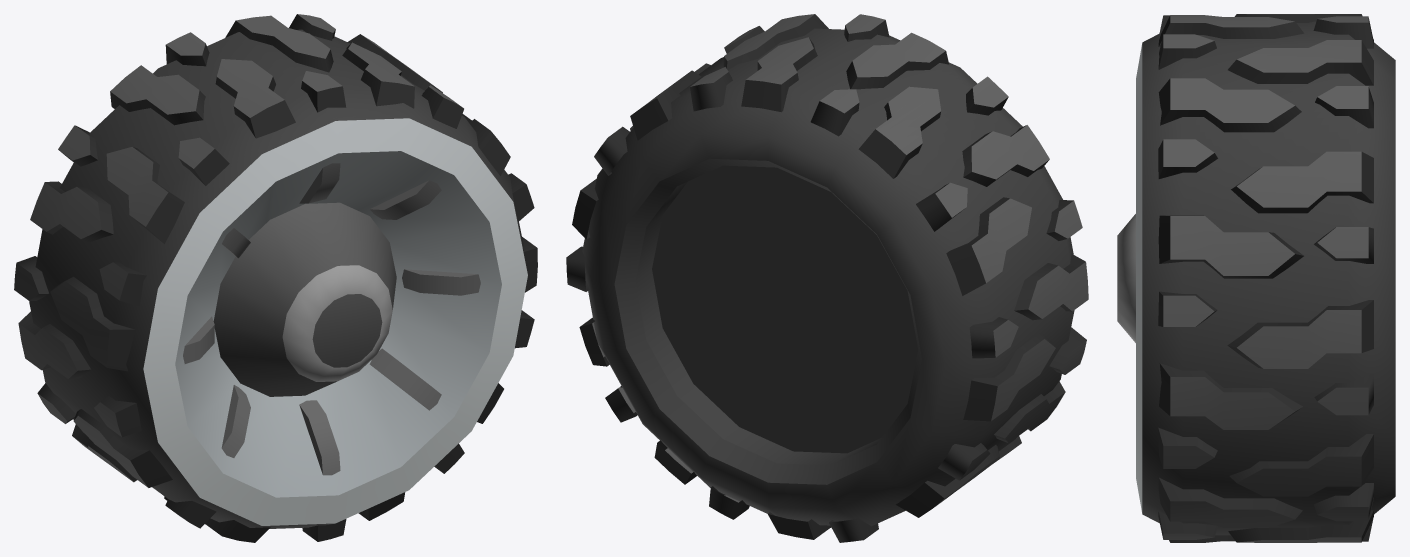
File: wheel_06.fbx
3 renders of one model, left to right at view 1: azimuth 30°, elevation 25°; view 2: azimuth 150°, elevation 25°; view 3: azimuth 270°, elevation 25°, orthographic. The views are drawn at different scales.
Parts seen in each view (by area): view 1: wheel_06; view 2: wheel_06; view 3: wheel_06.
Boxes of the visible parts, left/top/right/bottom form: wheel_06: left=14, top=14, right=537, bottom=542; wheel_06: left=566, top=14, right=1088, bottom=542; wheel_06: left=1117, top=14, right=1395, bottom=542.
Size of the model in its own units: 105 by 105 by 55.3.
